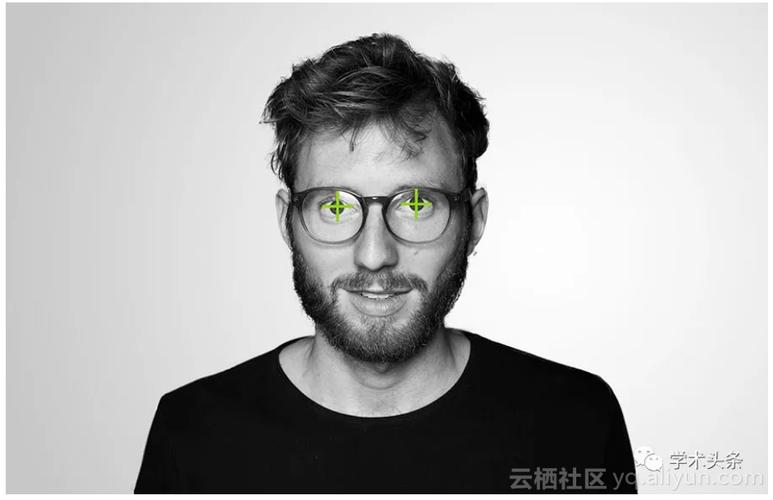no_mask: (303, 118, 475, 356)
